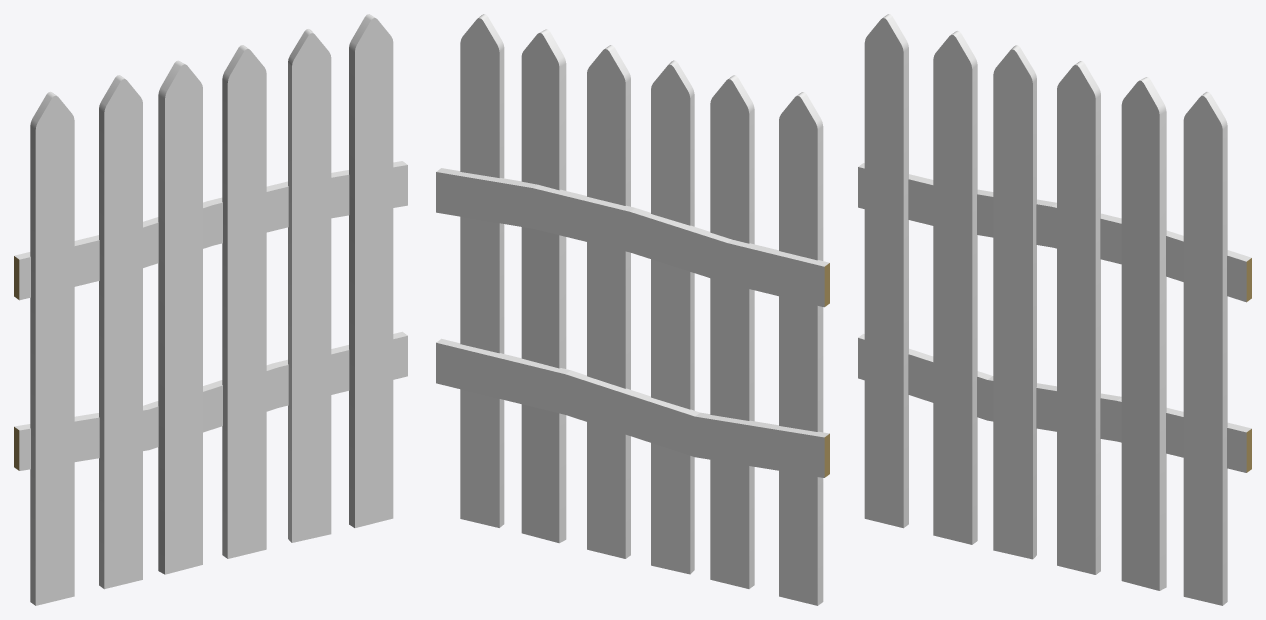
Rendered from Fence.fbx.
3 renders of one model, left to right at view 1: azimuth 30°, elevation 25°; view 2: azimuth 150°, elevation 25°; view 3: azimuth 330°, elevation 25°, orthographic.
Visible parts, largest first — view 1: Fence; view 2: Fence; view 3: Fence.
Boxes of the visible parts, bbox=[...] form: Fence: bbox=[14, 14, 407, 605]; Fence: bbox=[436, 14, 829, 605]; Fence: bbox=[858, 14, 1251, 605].
Size of the model in its own units: 50 by 62.14 by 2.36.
